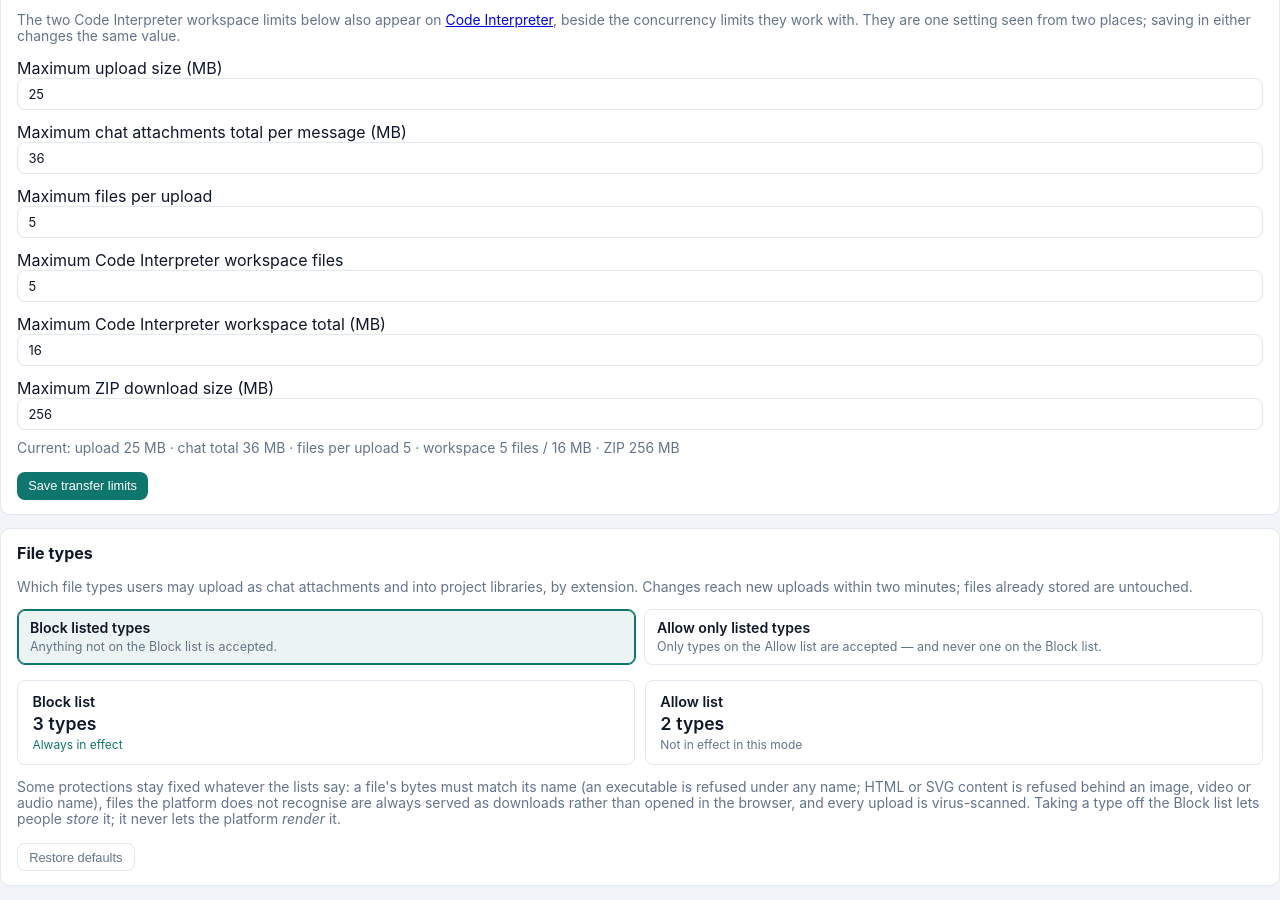
the File types card › opens each list in its own dialog
Click the button "Block list 3 types Always in effect".
click(64, 701)  # box [17,680,635,765]
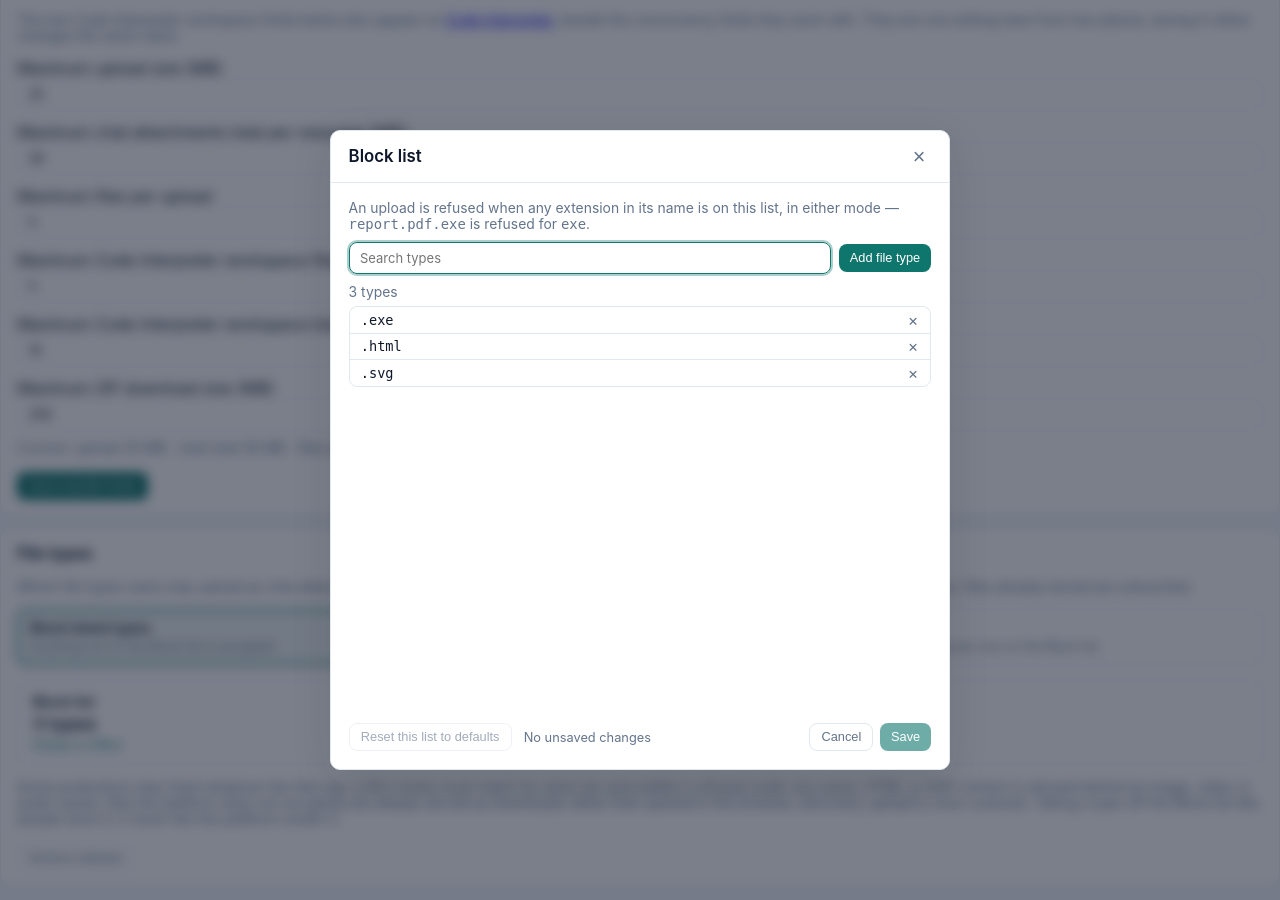
Expected: the dialog shows ".exe", [349,216,466,232]
Click the button "Cancel".
click(841, 737)  # box [809,723,874,751]
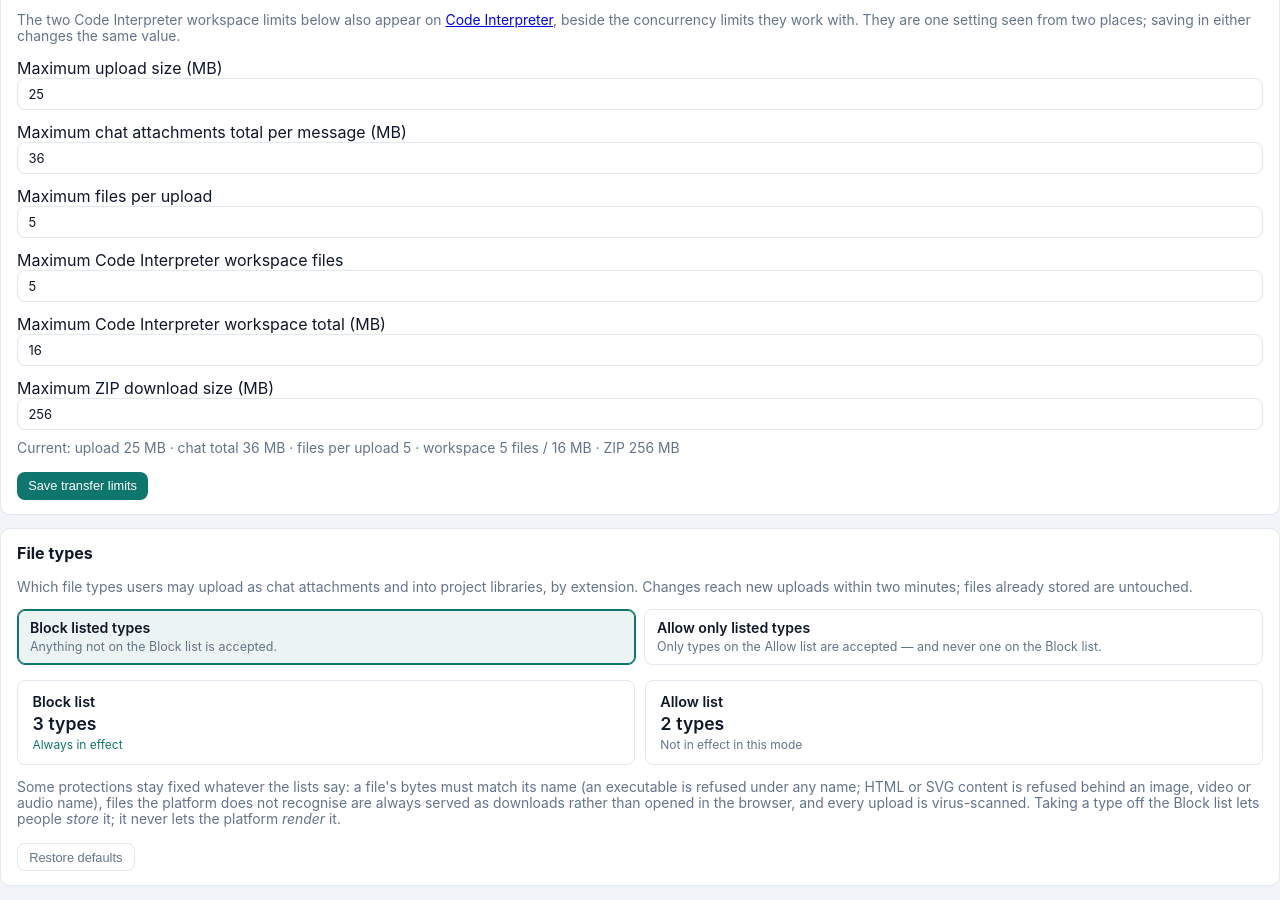
Expected: the dialog is gone
Click the button "Allow list 2 types Not in effect in this mode".
click(692, 701)  # box [645,680,1263,765]
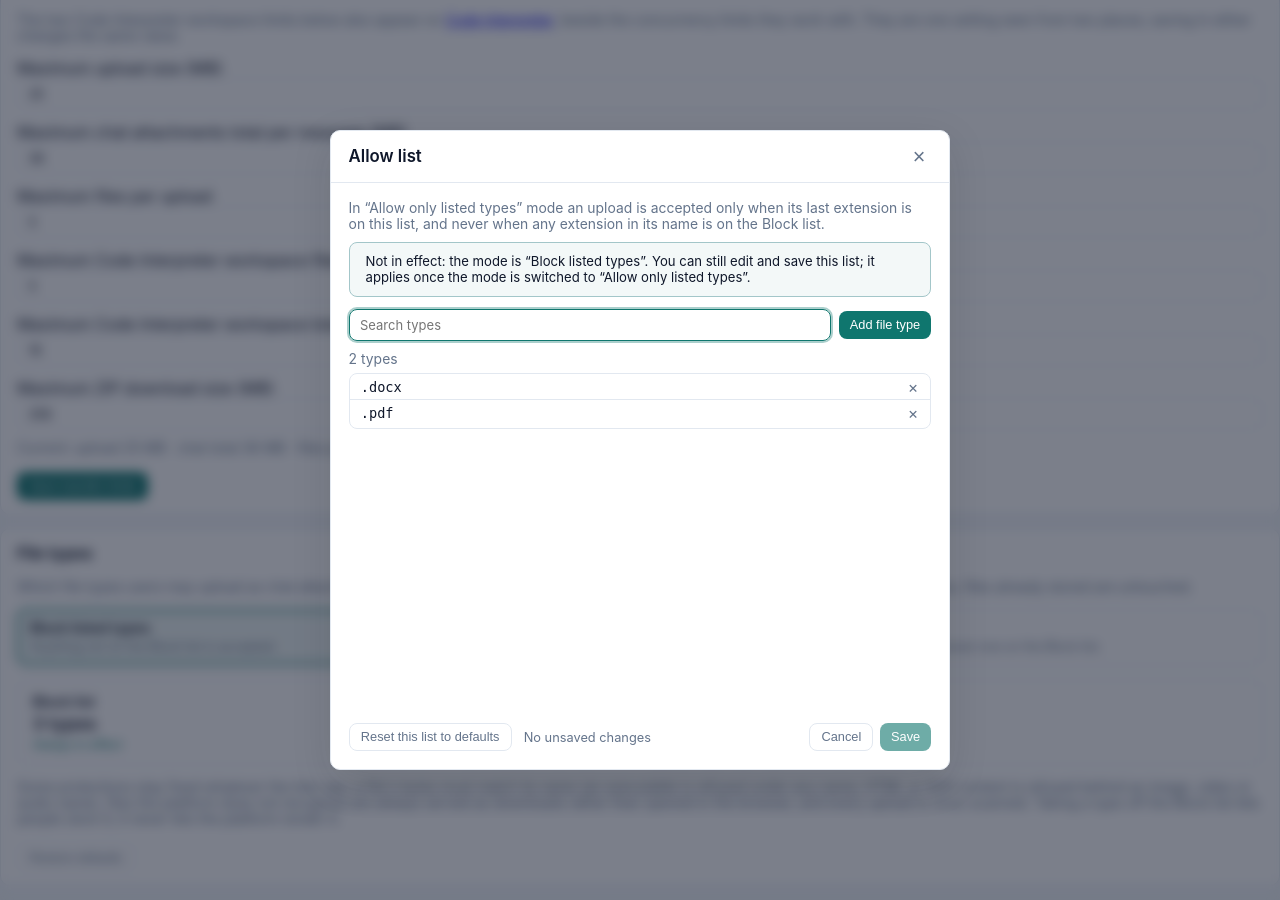
Expected: the dialog shows ".docx", [330,130,950,770]
Expected: the dialog shows "Not in effect", [366,253,875,285]
